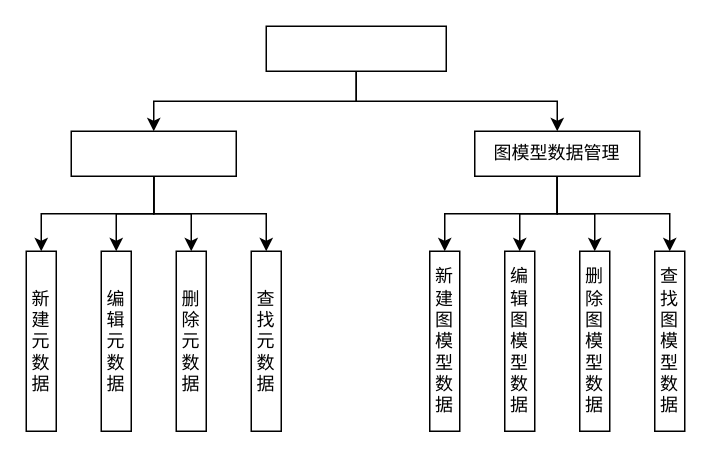
The diagram is 711 pixels wide and 458 high, and some of its shapes have lost their labels. The box of each missing label's shape, as (x1, y1, x2, y2) in pixels:
元数据管理: (70, 130, 236, 176)
图数据管理: (265, 25, 446, 71)
